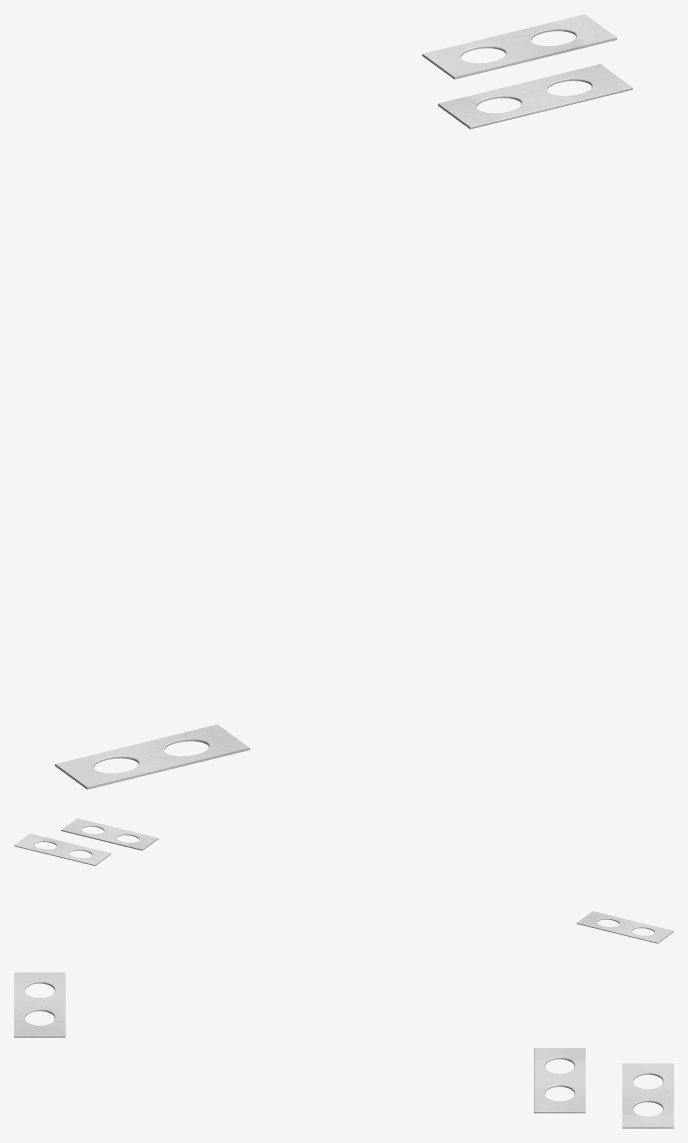
The model's file is Countertops_Quartz_Calacatta_Ultra.glb.
3 views of the same model, one above another, from view 1: azimuth 30°, elevation 25°; view 2: azimuth 150°, elevation 25°; view 3: azimuth 270°, elevation 25° (orthographic). The views are drawn at different scales.
Visible parts, largest first — view 1: Bathroom_Counter_tops_Quartz_Calacatta_Ultra_2345; view 2: Bathroom_Counter_tops_Quartz_Calacatta_Ultra_2345; view 3: Bathroom_Counter_tops_Quartz_Calacatta_Ultra_2345.
Boxes of the visible parts, left/top/right/bottom form: Bathroom_Counter_tops_Quartz_Calacatta_Ultra_2345: left=55, top=14, right=632, bottom=789; Bathroom_Counter_tops_Quartz_Calacatta_Ultra_2345: left=14, top=818, right=673, bottom=943; Bathroom_Counter_tops_Quartz_Calacatta_Ultra_2345: left=14, top=972, right=673, bottom=1128.
Bounding box in the file's own units: 16.21 × 4.31 × 12.7.
1 material, 1 textured.
